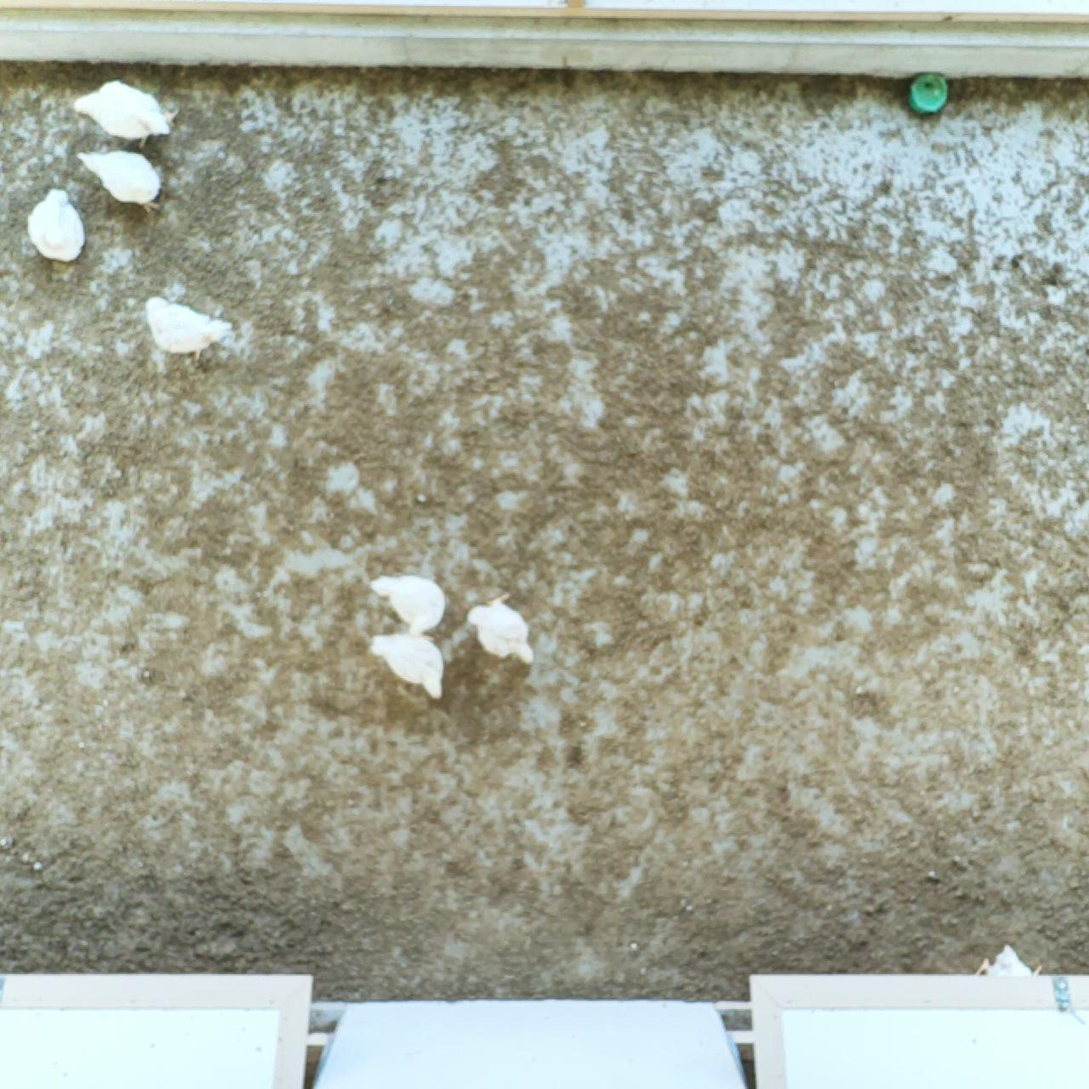chicken: (68, 77, 184, 152), (71, 143, 169, 216), (363, 623, 450, 701), (145, 293, 237, 362), (463, 590, 539, 666), (20, 186, 87, 270), (367, 569, 447, 637), (966, 941, 1046, 986)
